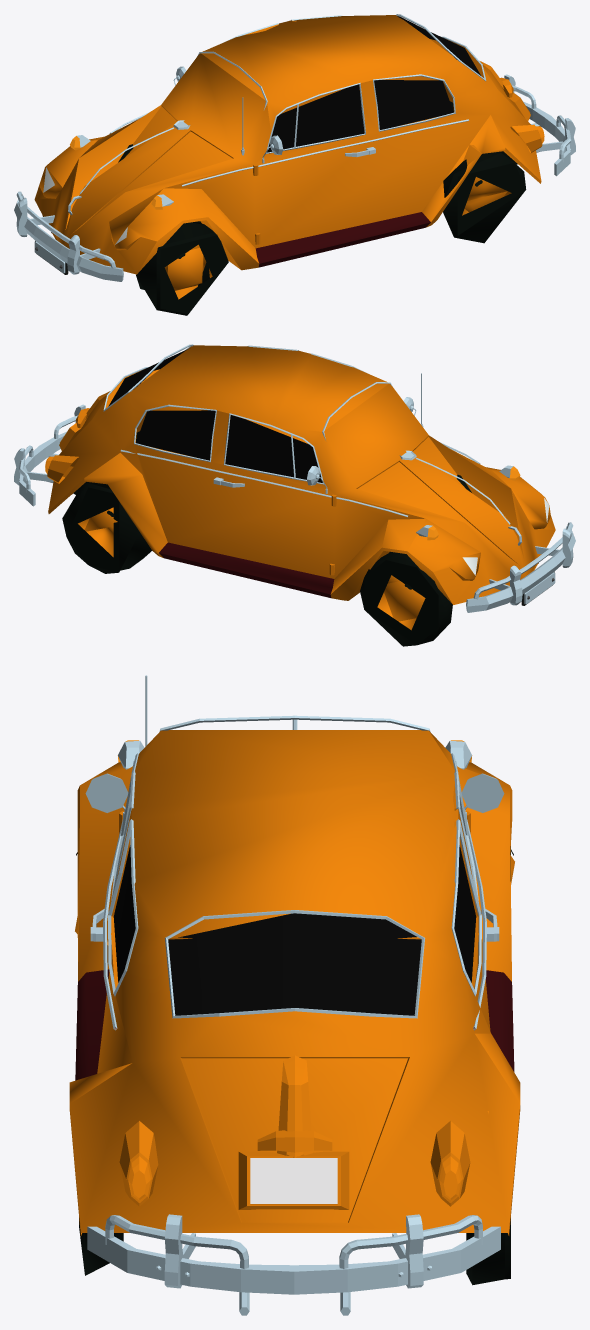
Rendered from beatall.lod.glb.
The picture shows the model from 3 angles, top to bottom: view 1: azimuth 30°, elevation 25°; view 2: azimuth 150°, elevation 25°; view 3: azimuth 270°, elevation 25°; orthographic projection. The views are drawn at different scales.
Parts seen in each view (by area): view 1: beetle.004; view 2: beetle.004; view 3: beetle.004.
Boxes of the visible parts, box(x1,y1,x2,y2) form: beetle.004: box(14, 14, 575, 315); beetle.004: box(14, 344, 575, 646); beetle.004: box(69, 675, 520, 1315).
Bounding box in the file's own units: 3.45 × 1.23 × 1.32.
3 materials, 2 textured.
